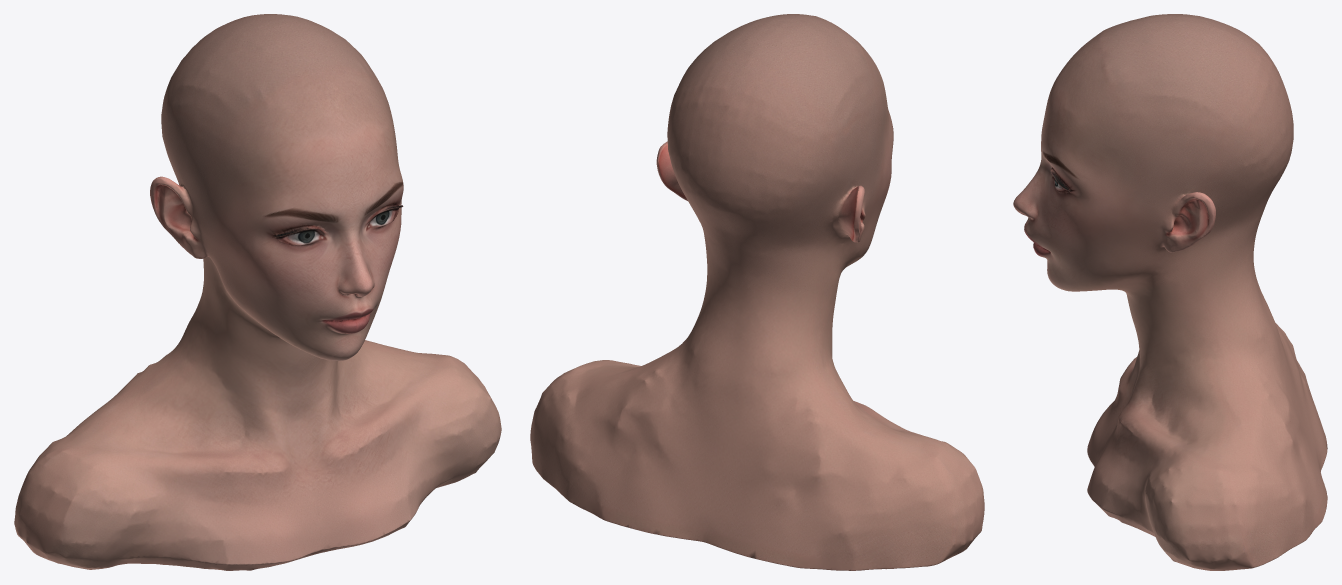
File: rosto_5.glb
3 views of the same model, side by side, from view 1: azimuth 30°, elevation 25°; view 2: azimuth 150°, elevation 25°; view 3: azimuth 270°, elevation 25° (orthographic). The views are drawn at different scales.
Bounding box in the file's own units: 1.79 × 1.9 × 1.15.
Materials: 1 (1 with a texture image).
